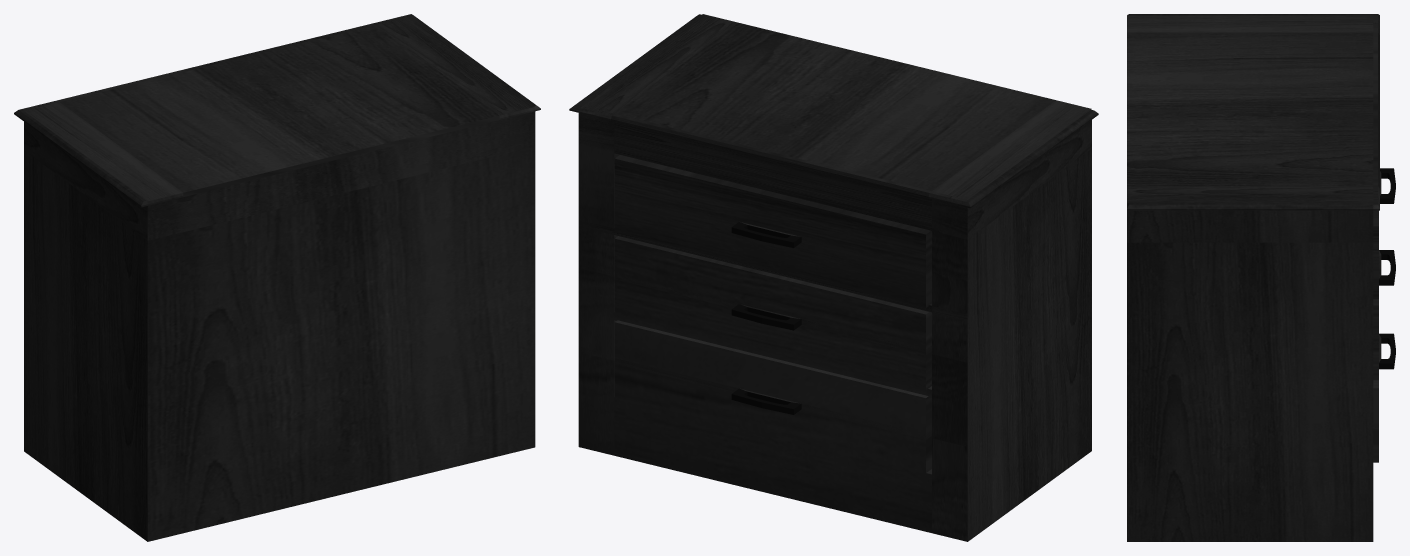
File: buro.fbx
The picture shows the model from 3 angles, left to right: view 1: azimuth 30°, elevation 25°; view 2: azimuth 150°, elevation 25°; view 3: azimuth 270°, elevation 25°; orthographic projection.
Visible parts, largest first — view 1: Cube; view 2: Cube; view 3: Cube.
Part boxes in pixels (box(x1,y1,x2,y2)): Cube: box(14, 14, 540, 541); Cube: box(569, 14, 1098, 541); Cube: box(1127, 14, 1395, 541).
Size of the model in its own units: 124 by 101 by 72.96.
1 material, 1 textured.
